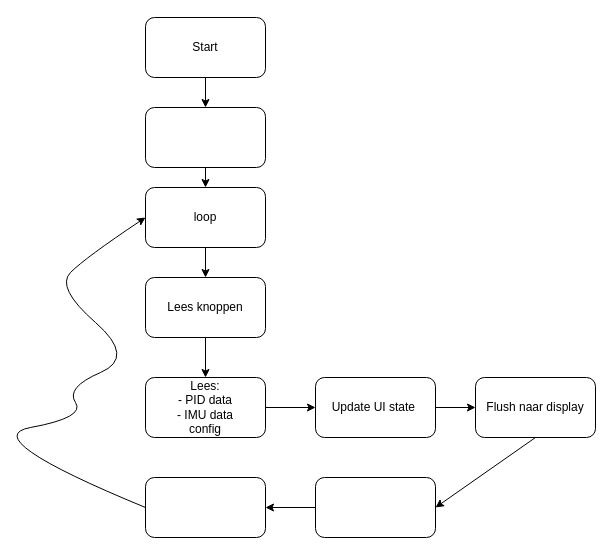
Some shapes in this 614 by 555 pixel diagram are drawn without their labels. The shapes that lost their labels are listed below. From the top down, each one's centre as x and y in pixels, then its label:
At (205,137): "Init display I2C".
At (205,507): "Delay".
At (375,507): "check config wijzigingen".
